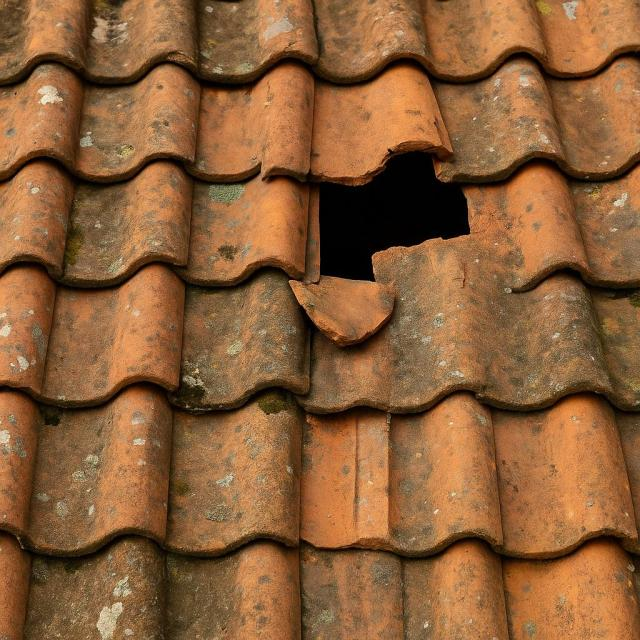trou: (299, 133, 477, 289)
